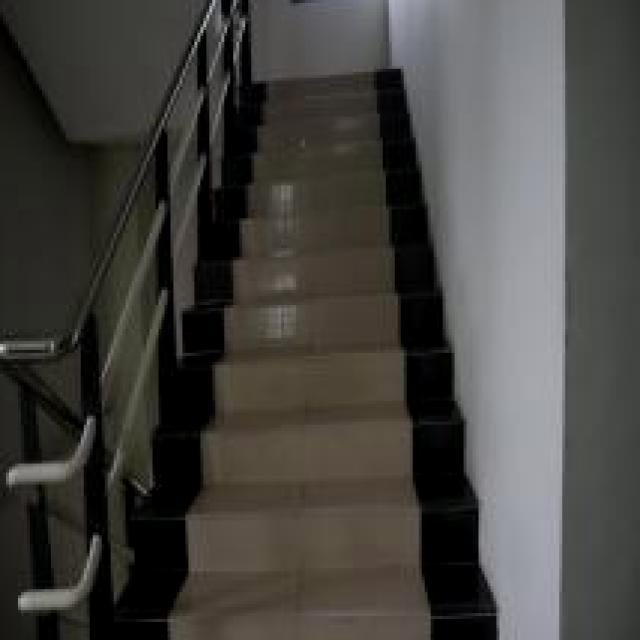upstair: (243, 79, 438, 640)
